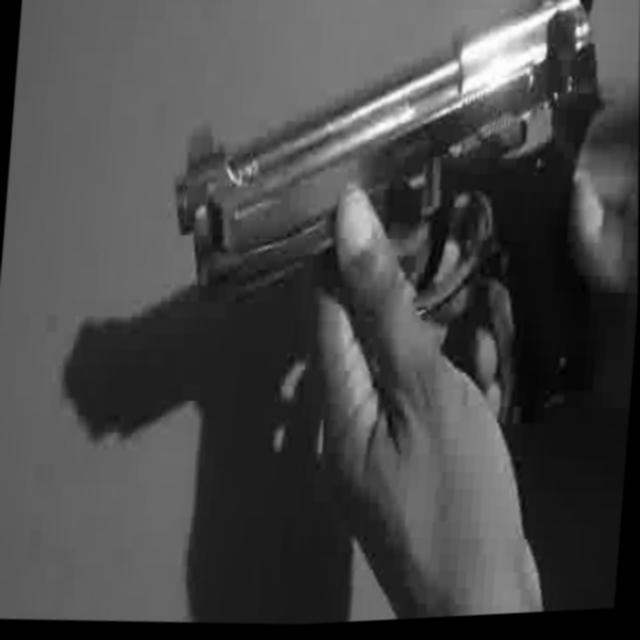weapon: (150, 0, 610, 518)
